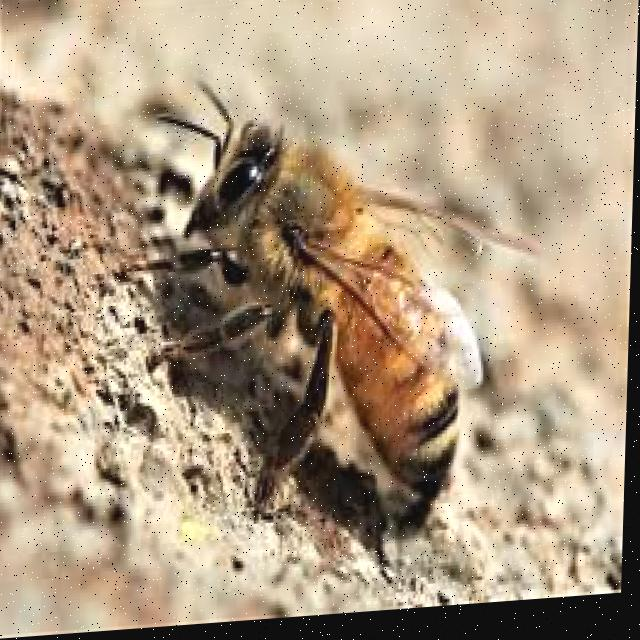Apis-mellifera-scutellata: (134, 32, 550, 548)
